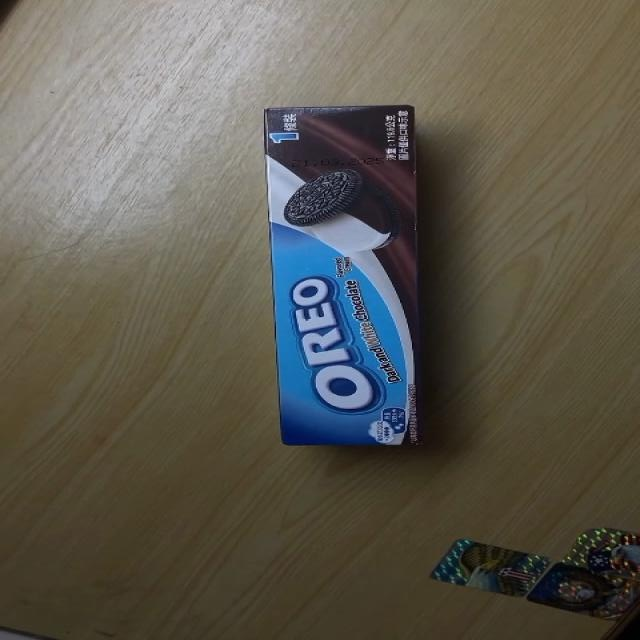Oreo: (261, 103, 442, 450)
